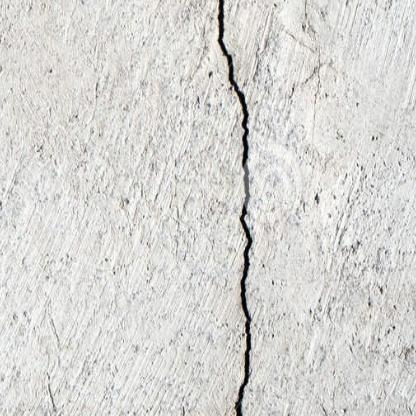Cracks: (214, 0, 259, 416)
